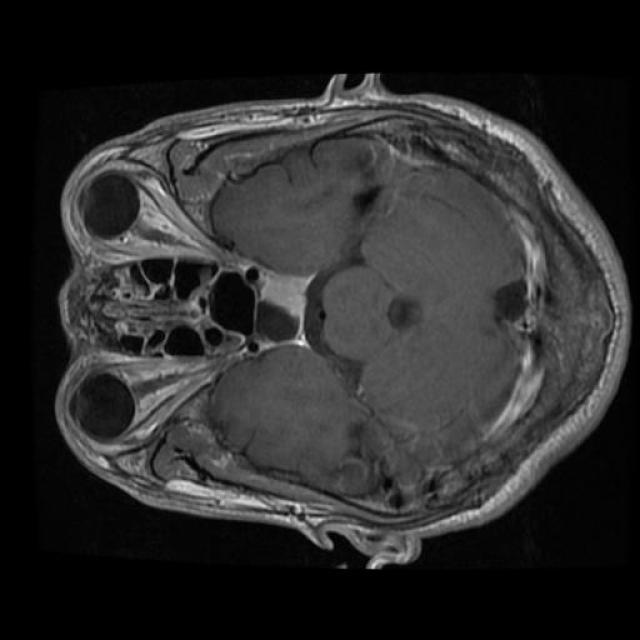Pituitary: (243, 266, 314, 354)
